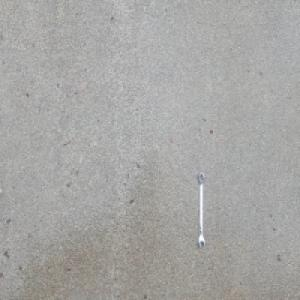Wrench: (197, 170, 205, 250)
